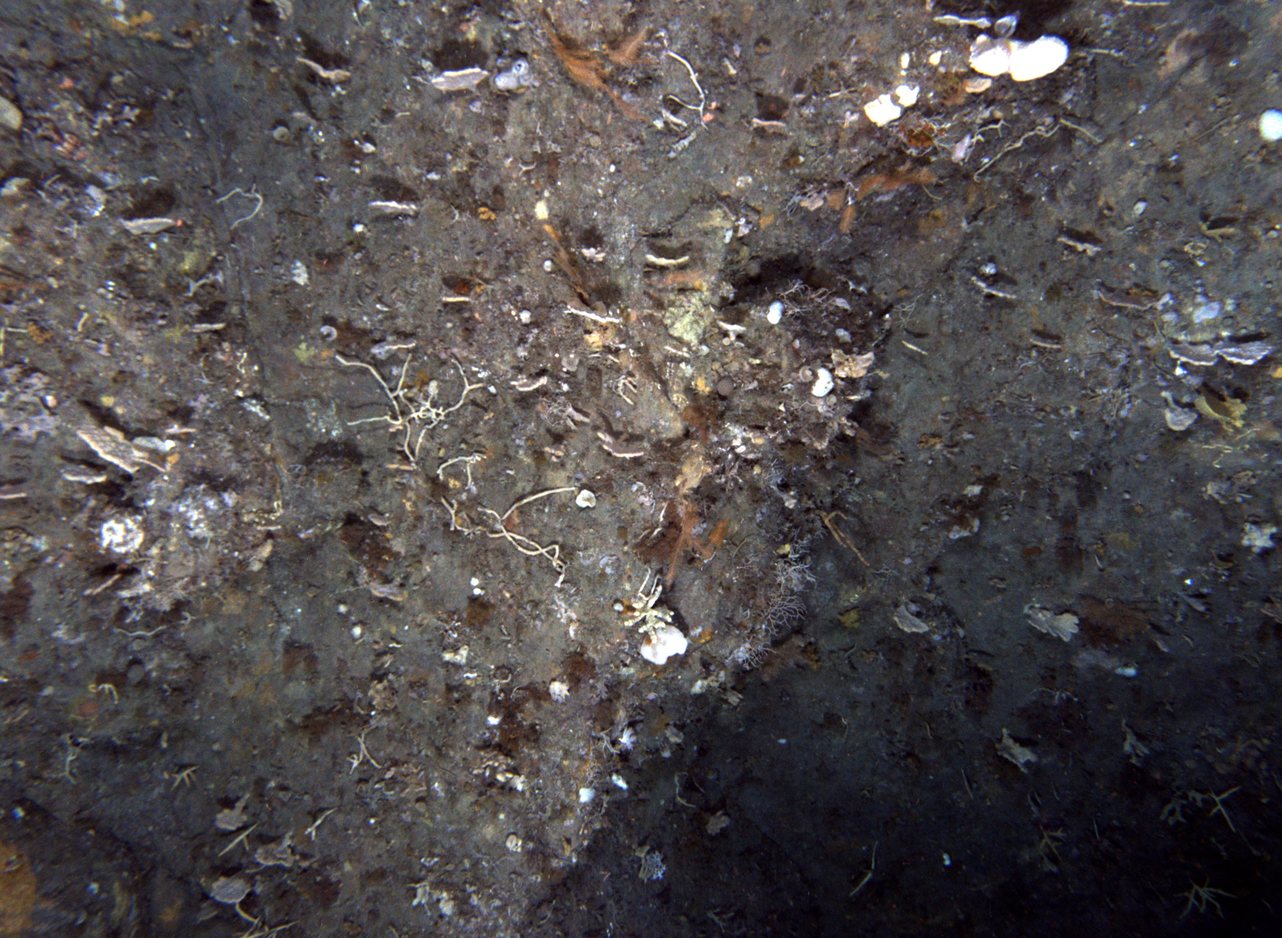Brachionichthyidae: (35, 120, 90, 163)
